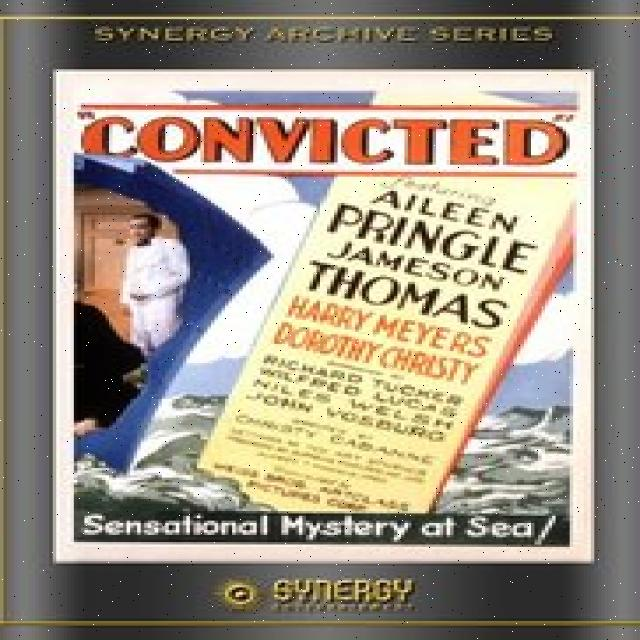movie-judul: (81, 106, 578, 174)
picture: (74, 185, 212, 435)
